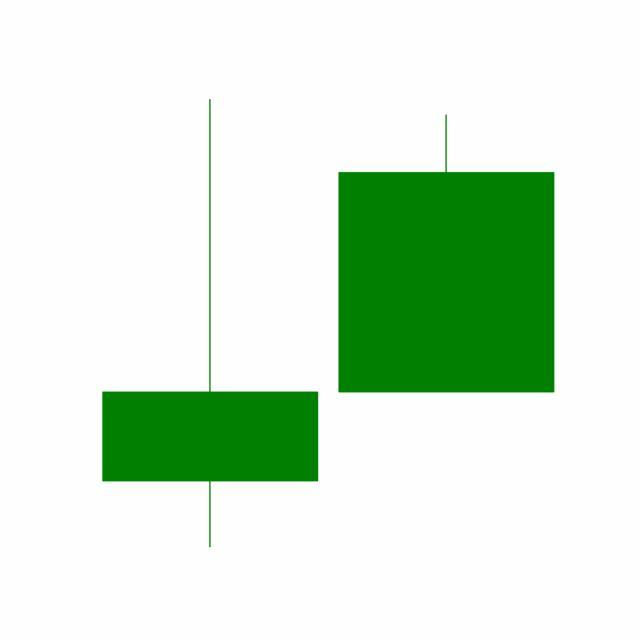Marubozu: (328, 112, 566, 396)
